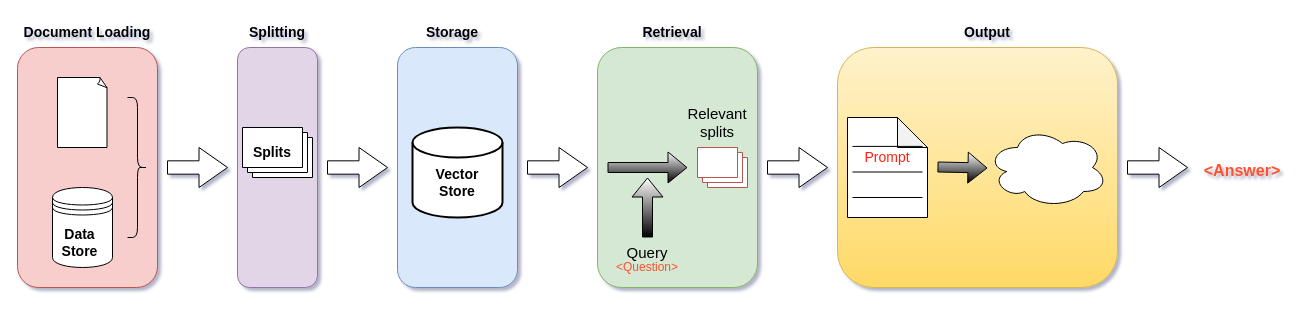
Some shapes in this 1311 by 311 pixel diagram are drawn without their labels. The box of each missing label's shape, as (x1, y1, x2, y2) in pixels:
LLM: (986, 126, 1108, 208)
PDF: (56, 76, 108, 148)
